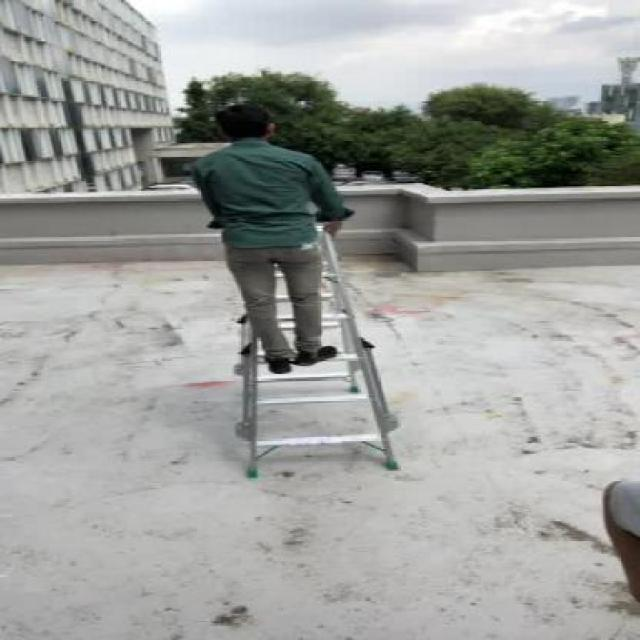hard hat: (175, 209, 428, 489)
vest: (171, 99, 377, 378)
